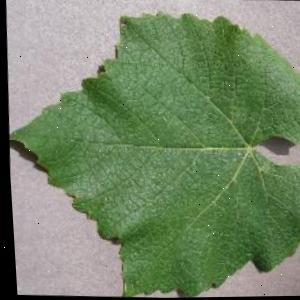Folha: (0, 4, 300, 300)
